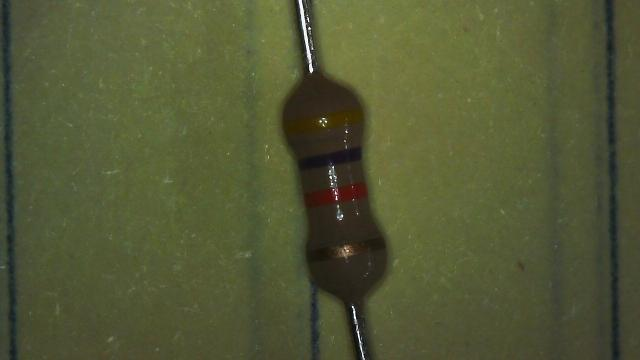gold: (306, 238, 384, 262)
orange: (304, 182, 368, 207)
resistor: (251, 52, 425, 311)
violet: (298, 148, 360, 172)
yellow: (284, 109, 363, 134)
